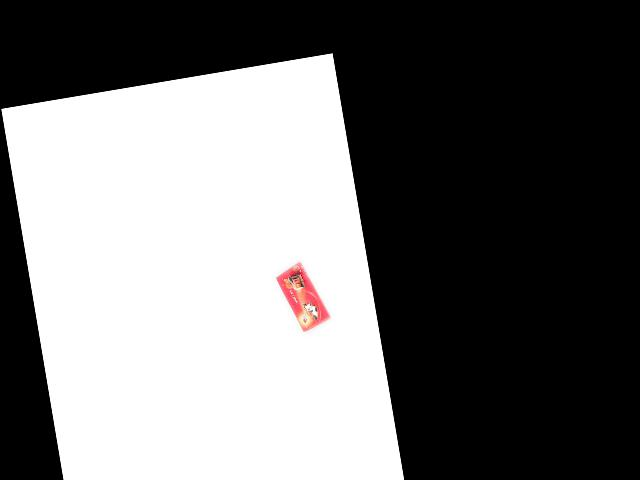chocolate: (272, 257, 332, 333)
